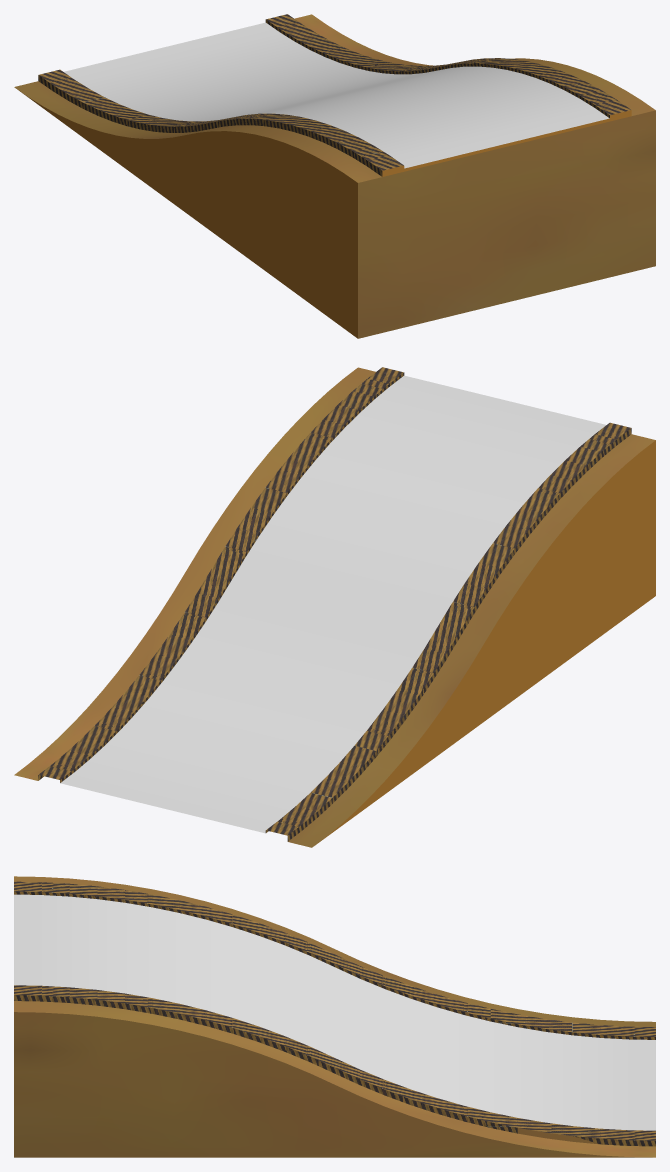
File: Road_Ramp_Long_Curved_Wall.fbx
The picture shows the model from 3 angles, top to bottom: view 1: azimuth 30°, elevation 25°; view 2: azimuth 150°, elevation 25°; view 3: azimuth 270°, elevation 25°; orthographic projection. The views are drawn at different scales.
Parts seen in each view (by area): view 1: roadRampLongCurvedWall; view 2: roadRampLongCurvedWall; view 3: roadRampLongCurvedWall.
Part boxes in pixels (bbox=[...]): roadRampLongCurvedWall: bbox=[14, 14, 655, 338]; roadRampLongCurvedWall: bbox=[14, 367, 655, 847]; roadRampLongCurvedWall: bbox=[14, 876, 655, 1157].
Size of the model in its own units: 100 by 52 by 200.
Materials: 3 (1 with a texture image).
